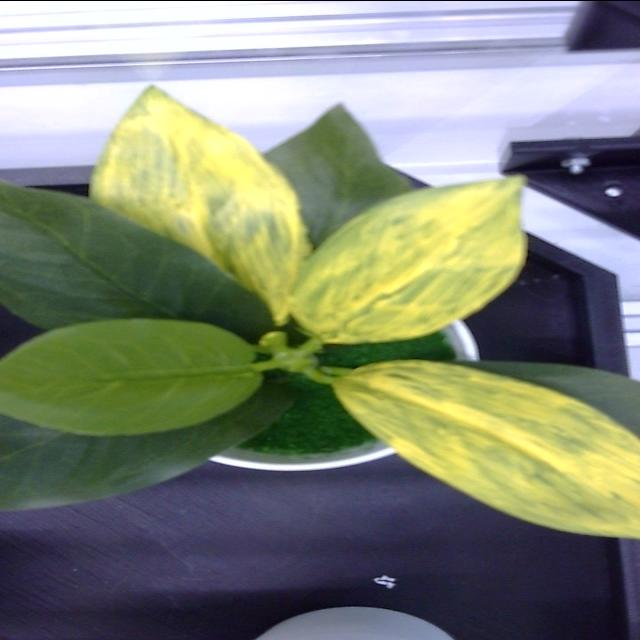Green: (0, 183, 273, 360), (0, 382, 293, 508), (0, 318, 280, 434), (0, 318, 279, 434)
Yellow: (332, 359, 639, 538), (92, 86, 313, 322), (291, 178, 525, 343)
